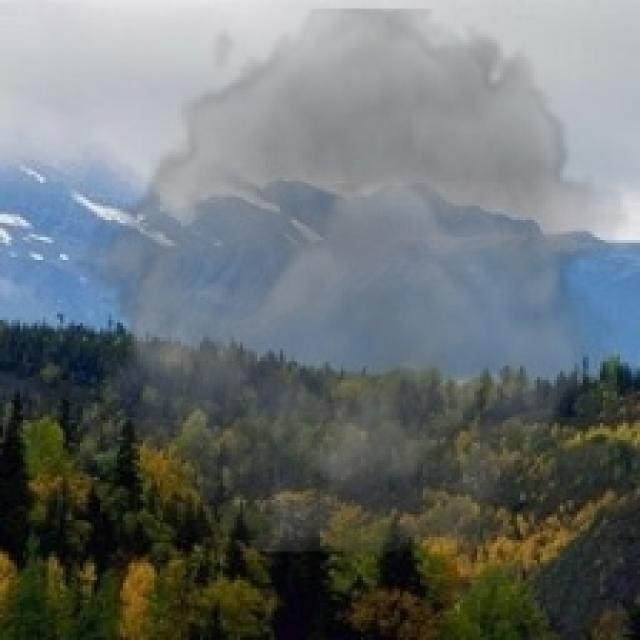Smoke: (74, 9, 629, 552)
